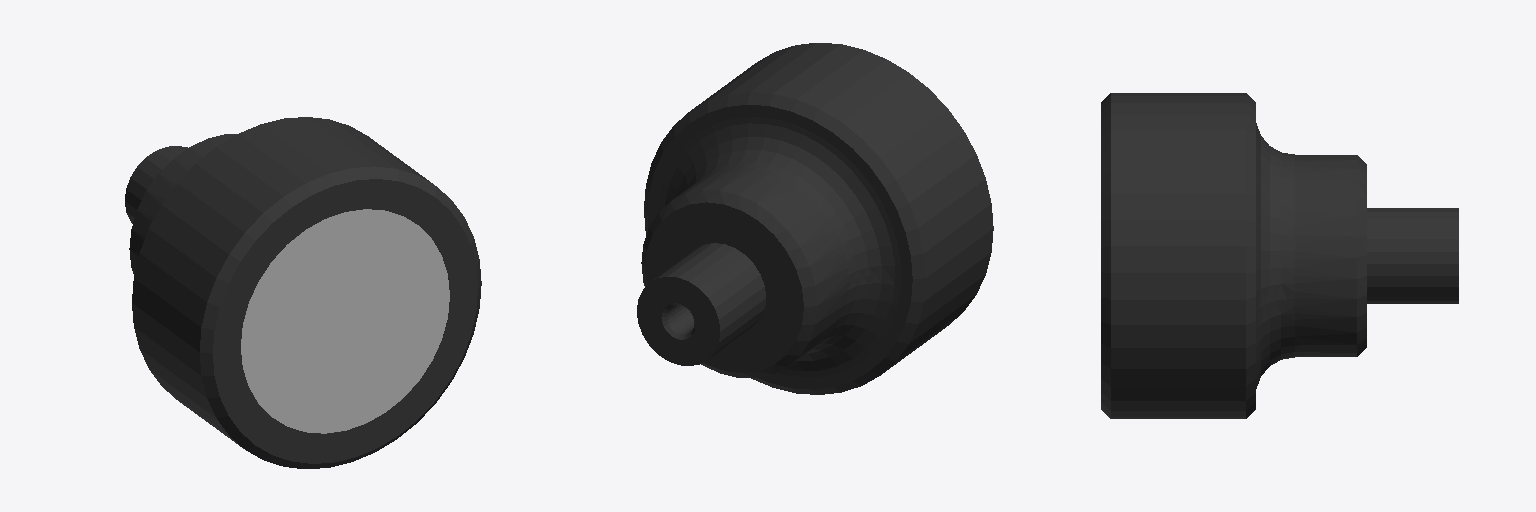
3 views of the same model, side by side, from view 1: azimuth 30°, elevation 25°; view 2: azimuth 150°, elevation 25°; view 3: azimuth 270°, elevation 25° (orthographic).
Parts seen in each view (by area): view 1: gn_3663-34-m4-1_1; view 2: gn_3663-34-m4-1_1; view 3: gn_3663-34-m4-1_1.
Part boxes in pixels (bbox=[...]): gn_3663-34-m4-1_1: bbox=[125, 117, 481, 468]; gn_3663-34-m4-1_1: bbox=[637, 43, 993, 394]; gn_3663-34-m4-1_1: bbox=[1101, 93, 1458, 418].
Size of the model in its own units: 33.7 by 33.58 by 37.